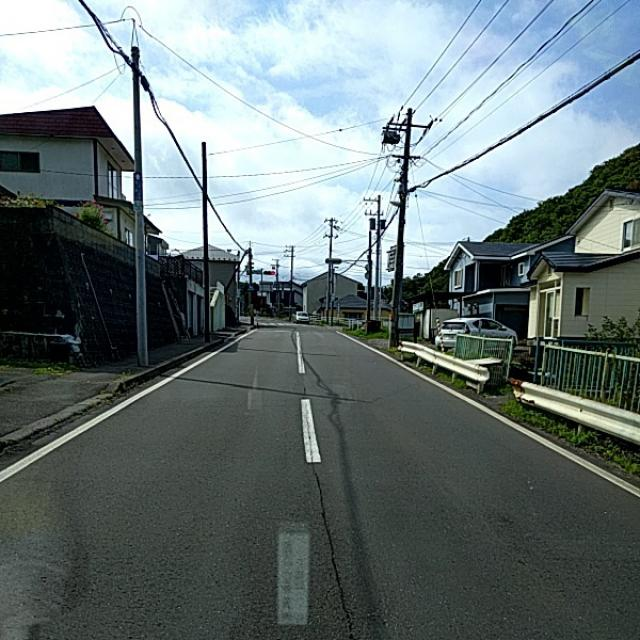pothole: (252, 367, 344, 482)
